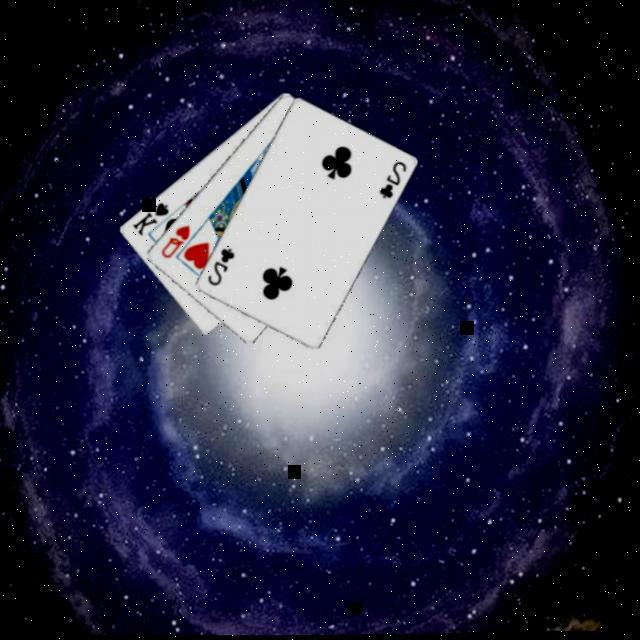2C: (202, 244, 236, 289), (374, 158, 408, 202)
KS: (126, 196, 170, 238)
QH: (156, 220, 190, 261)
